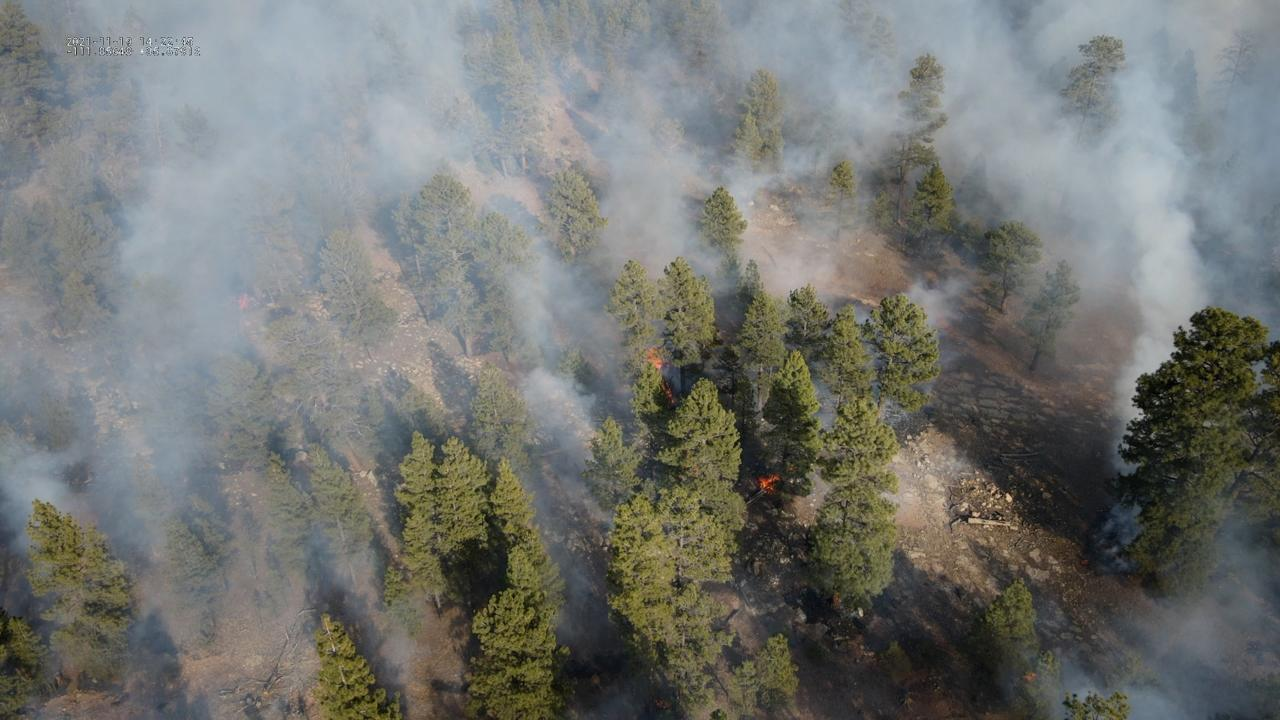fire: (639, 350, 675, 406), (756, 471, 783, 496), (237, 293, 251, 311)
smoke: (0, 0, 1280, 720)
